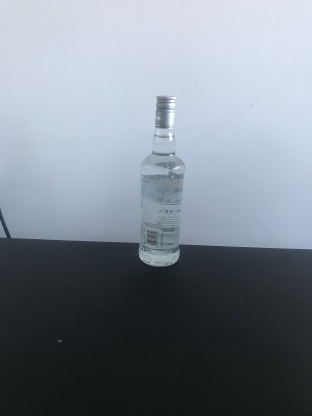nakretka: (153, 92, 177, 131), (154, 91, 170, 122)
